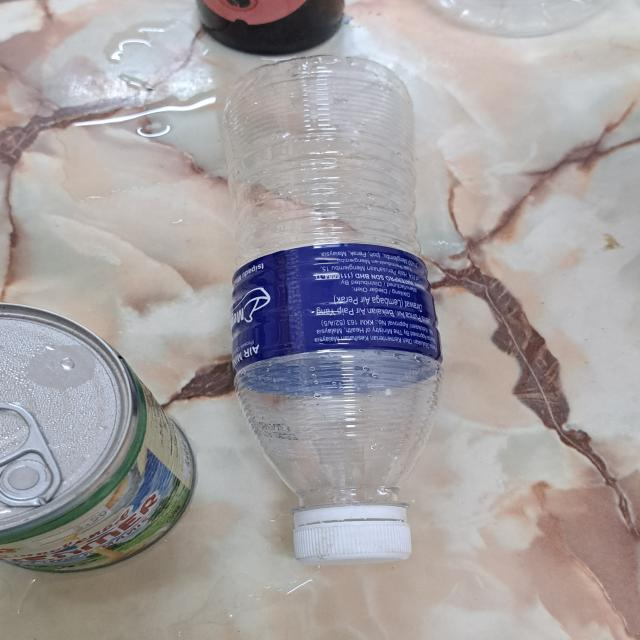can: (0, 302, 194, 574)
plastic bottle: (224, 51, 446, 511)
plastic bottle cap: (290, 505, 414, 562)
pop tab: (0, 402, 66, 511)
